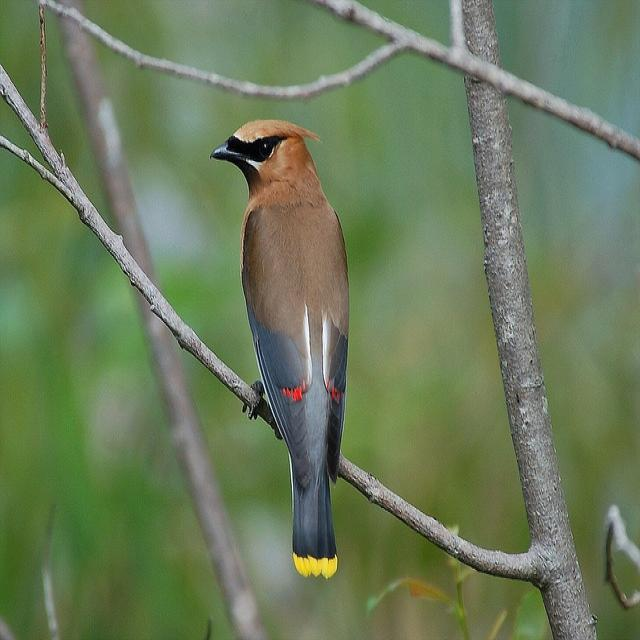bird: (210, 115, 373, 580)
